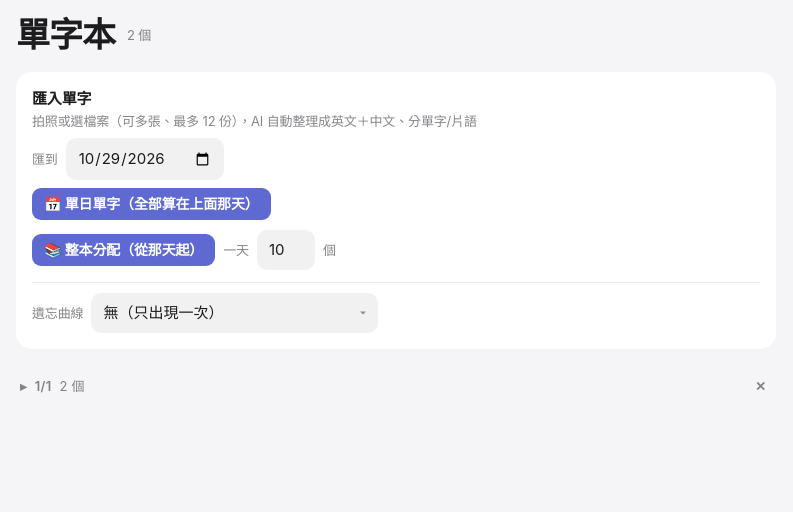
Scenario: 單字刪除失敗復原 › 單筆刪除回應遺失時以正式資料復原且不重送
Click the text "1/1": (23, 386) 16,367 -> 776,410
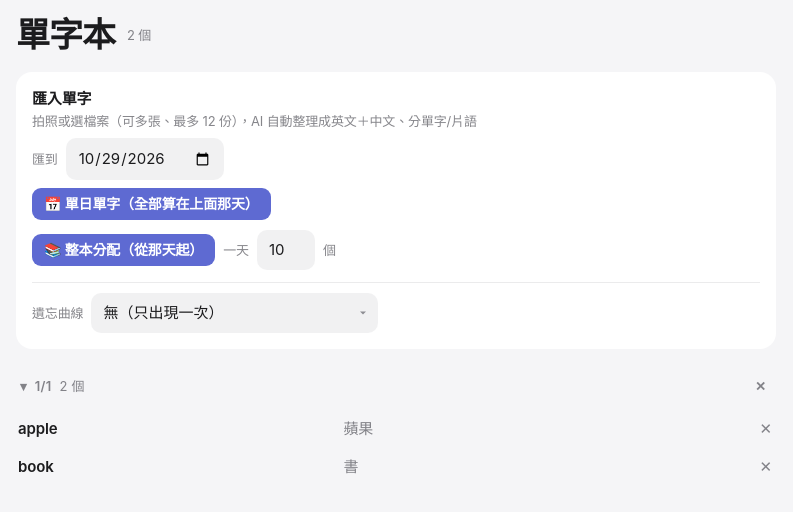
Click the button named "刪除「apple」": (766, 429) 757,416 -> 774,442
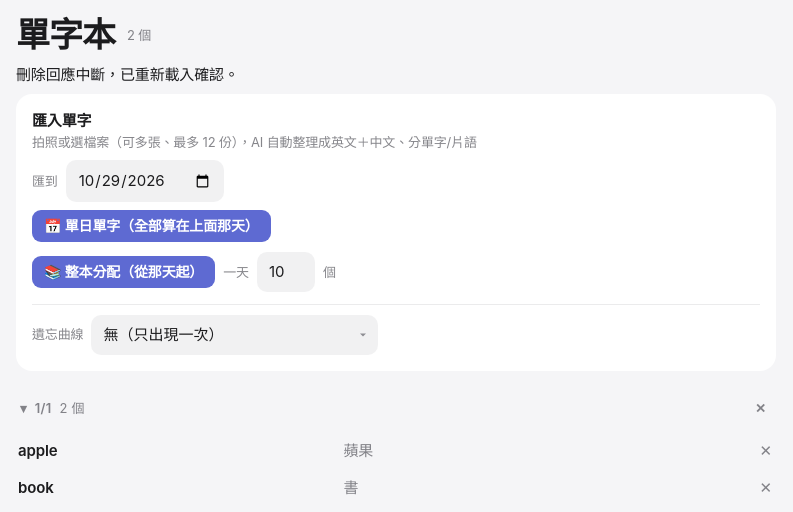
Now the text "apple" is shown, box 18,440 -> 57,460
Now the message shows "已重新載入確認", box 16,65 -> 239,84
